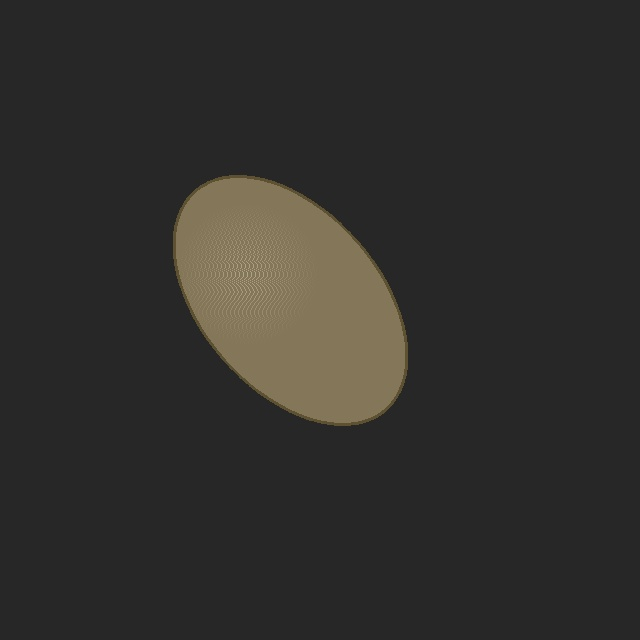lens: (174, 176, 406, 424)
